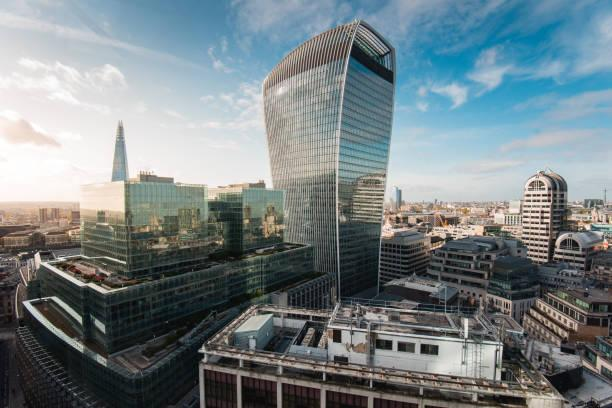Walkie talkie: (256, 18, 398, 291)
